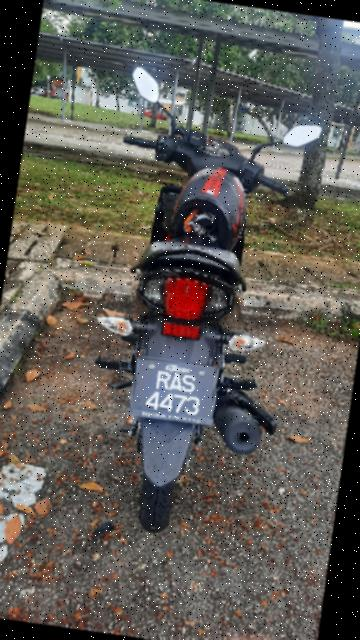License_Plate: (122, 346, 238, 446)
motorcycle: (49, 64, 355, 557)
